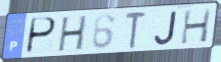6: (90, 13, 116, 51)
H: (179, 7, 213, 46), (56, 14, 89, 54)
J: (153, 10, 179, 46)
P: (24, 16, 58, 56)
T: (124, 11, 148, 50)
